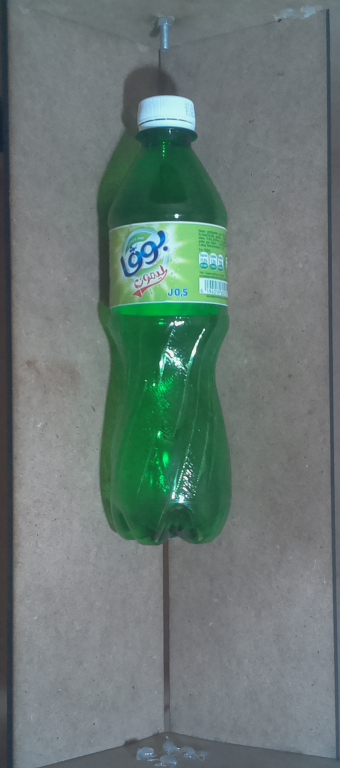Bouteille_0.5L: (96, 86, 239, 551)
